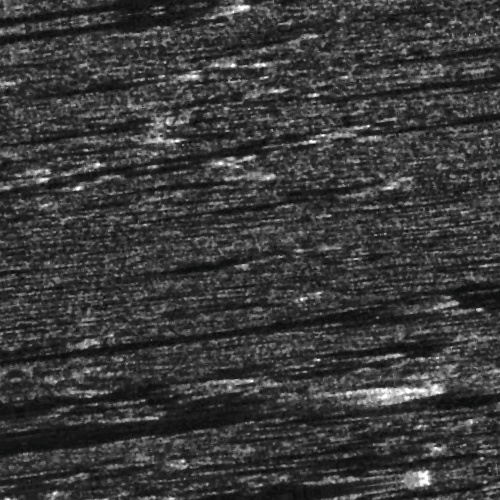object: (260, 400, 437, 417), (202, 149, 255, 160), (246, 0, 287, 11), (176, 64, 239, 69), (143, 124, 206, 129), (197, 172, 260, 177), (300, 143, 363, 148), (2, 145, 43, 152), (148, 108, 201, 113)
shadow: (0, 400, 348, 417), (0, 0, 266, 11), (42, 149, 228, 160), (15, 64, 207, 69), (150, 143, 332, 148), (371, 105, 500, 112), (0, 124, 175, 129), (0, 108, 175, 113), (103, 172, 228, 177), (415, 79, 500, 82), (0, 145, 22, 152)
